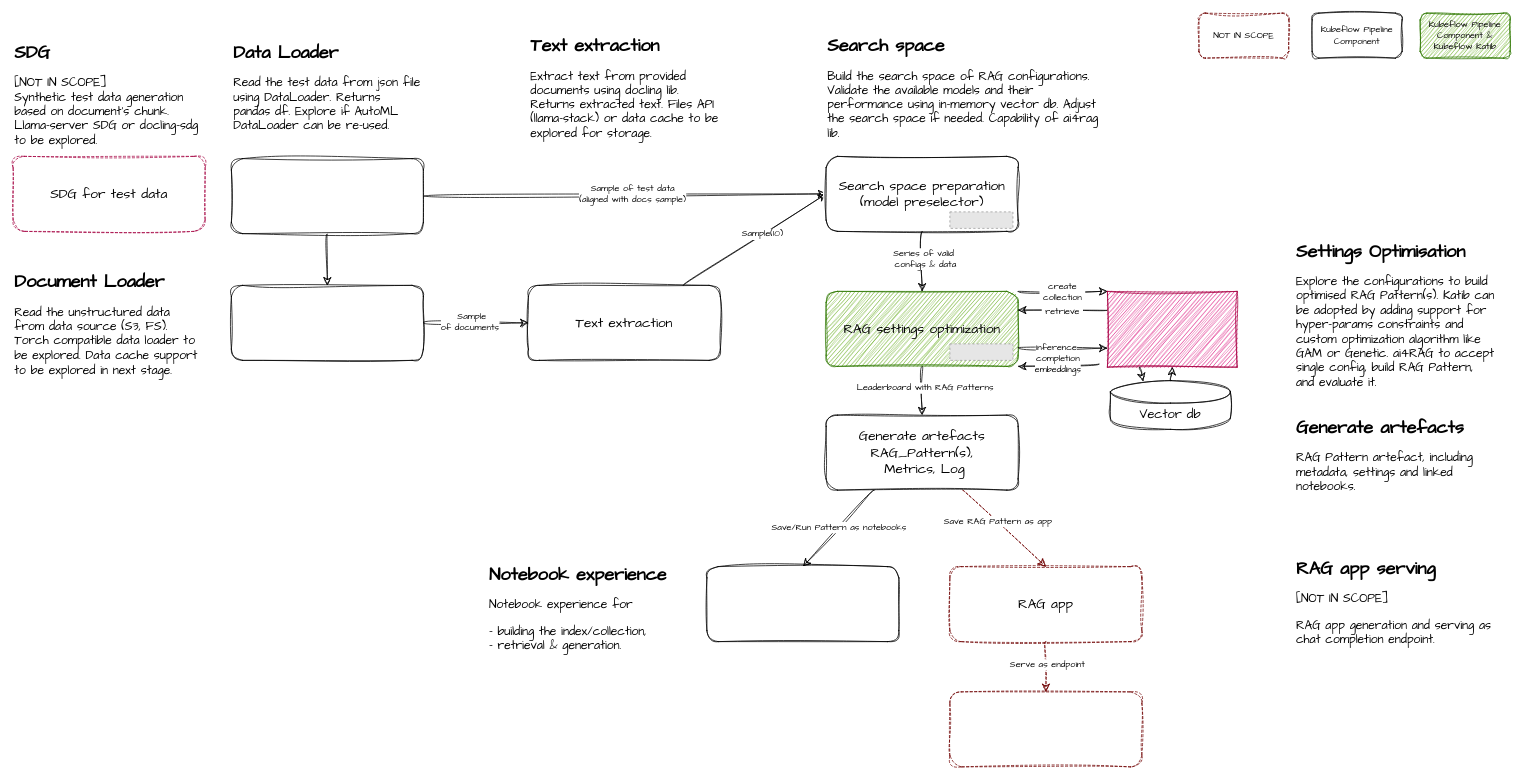
This 1523x780 diagram has some shape labels left out. Grey dashed boxes stand in for pictures. Here are the shapes that lost their labels. From the top down, the centre of each, then its label:
At (x=327, y=196): "Test data loading (Tabular data loader)".
At (x=327, y=322): "Documents sampling & loading".
At (x=1172, y=329): "llama-stack server".
At (x=802, y=604): "Notebook(s)".
At (x=1045, y=729): "RAG app serving".
